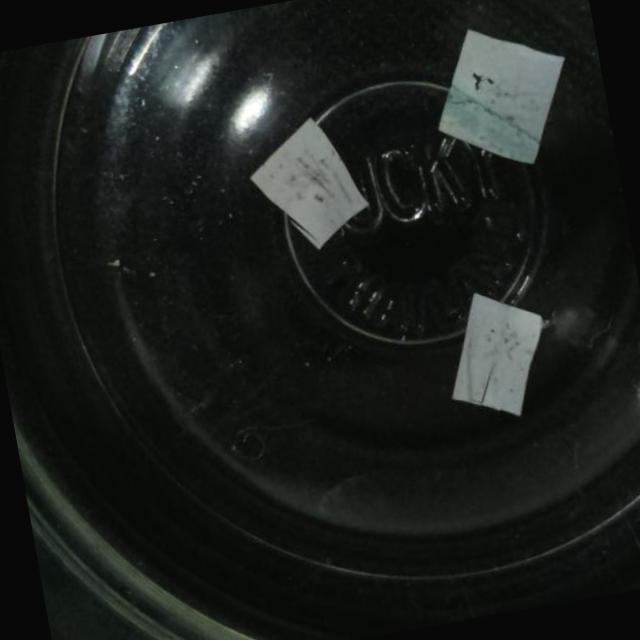fiber: (418, 5, 588, 193), (237, 98, 386, 263), (431, 272, 568, 434)
